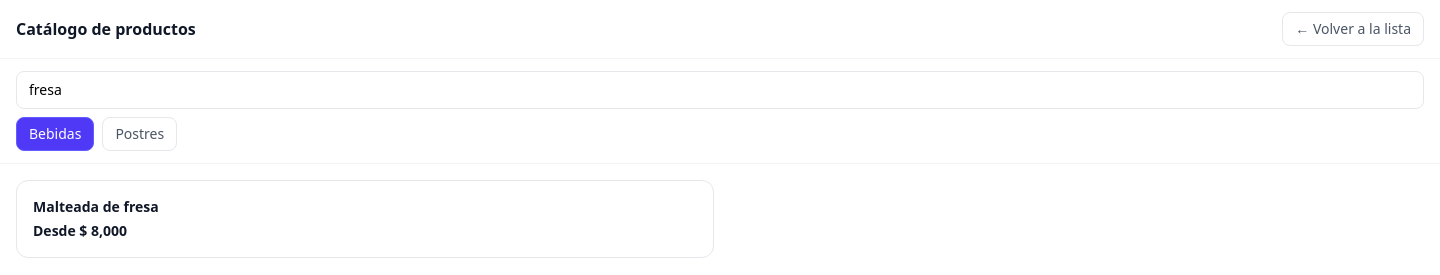
it: PosCatalogDrawerComponent › combina el filtro de categoría ya existente con la búsqueda por nombre
Click the button "Postres" at (140, 134), box [102,117,177,151]
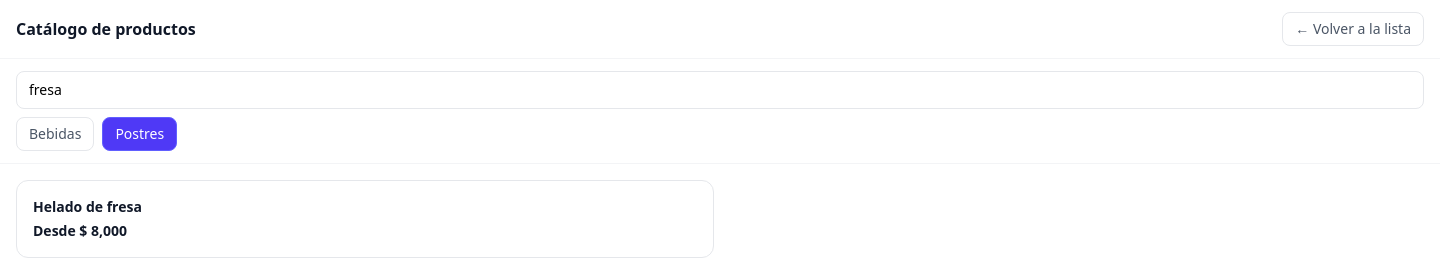
Expected: the text "Helado de fresa" is shown, [33,197,142,216]
Expected: the text "Malteada de fresa" is gone
